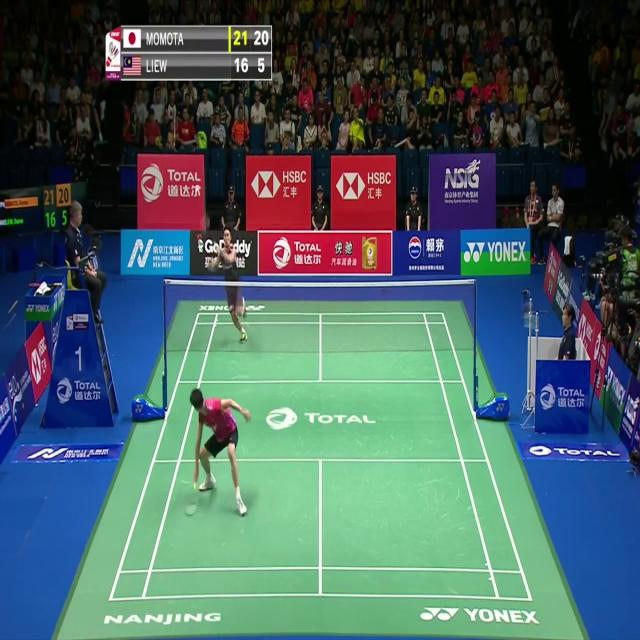Shuttlecock: (194, 181, 201, 192)
